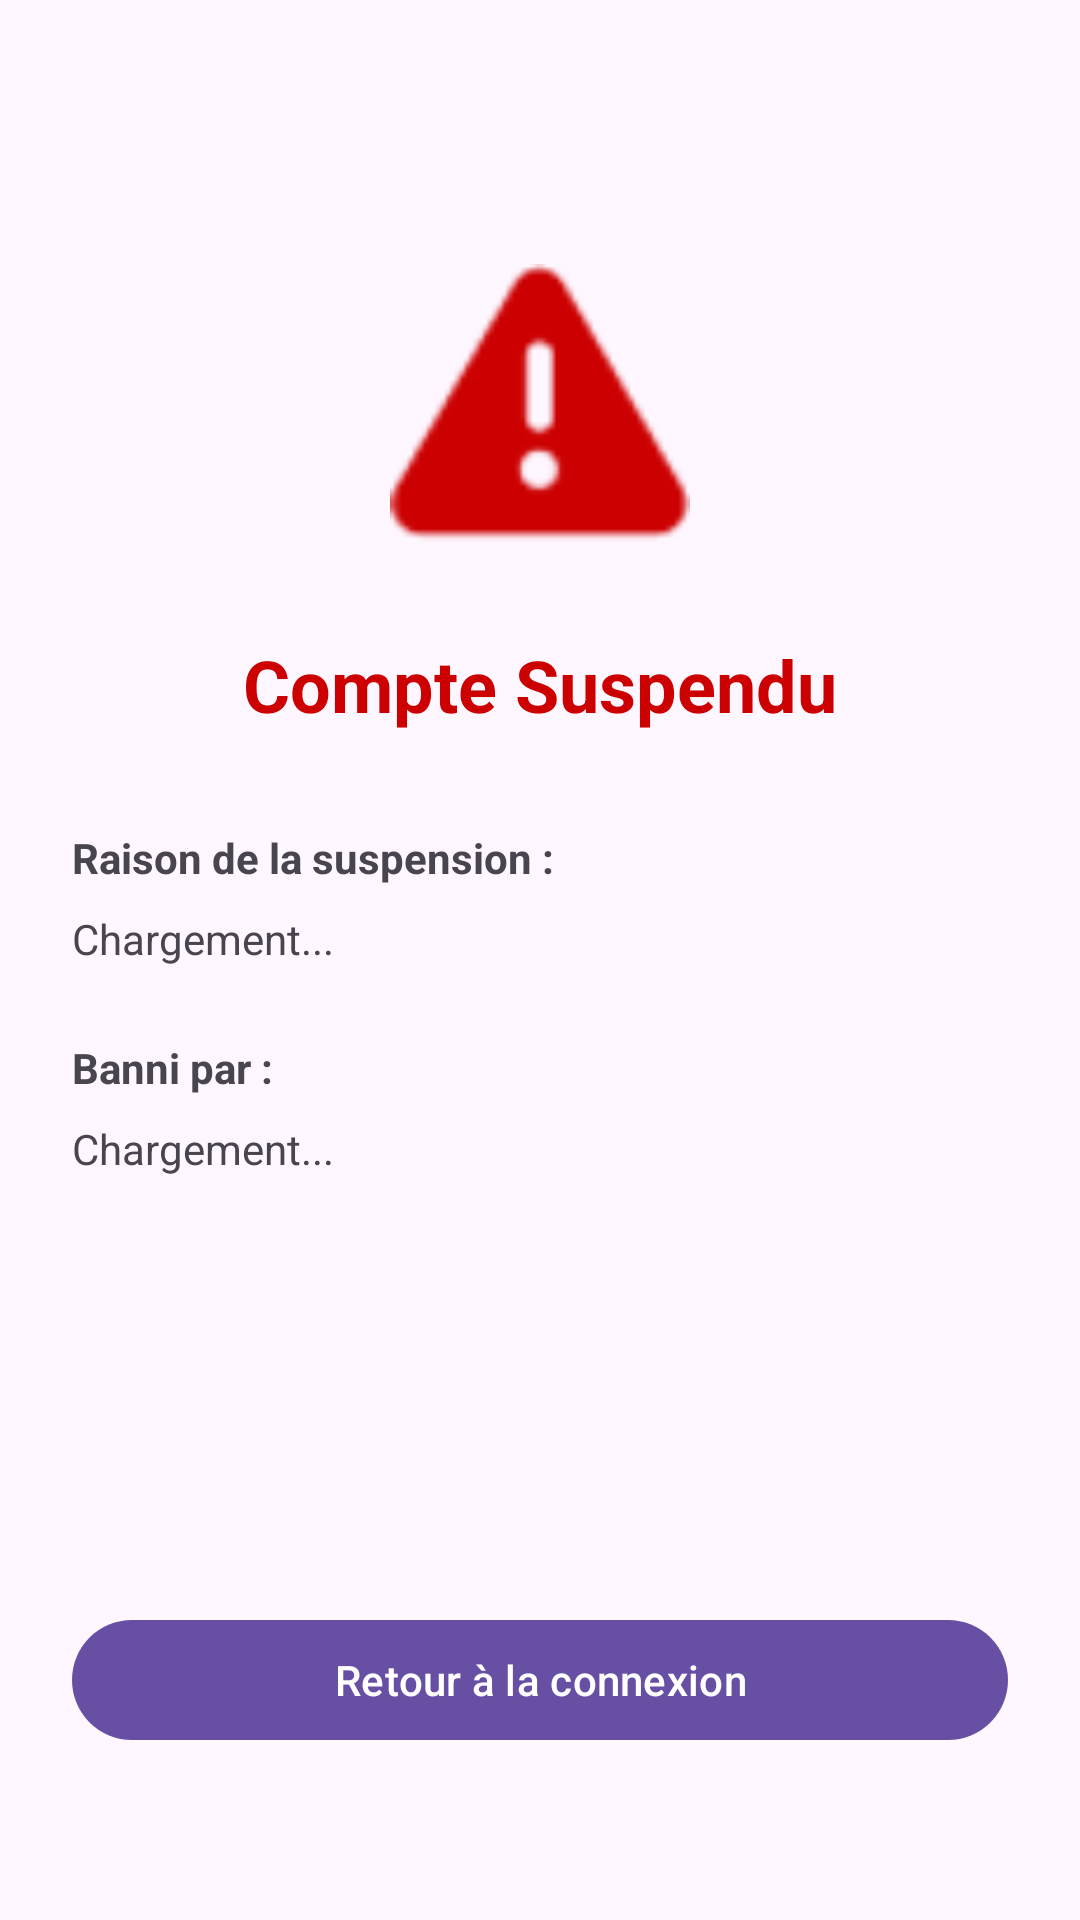

Named icons in this screenshot (1080x1920) and their bounding boxes, box(x1, y1, x2, y2):
alert: box(390, 264, 690, 538)
